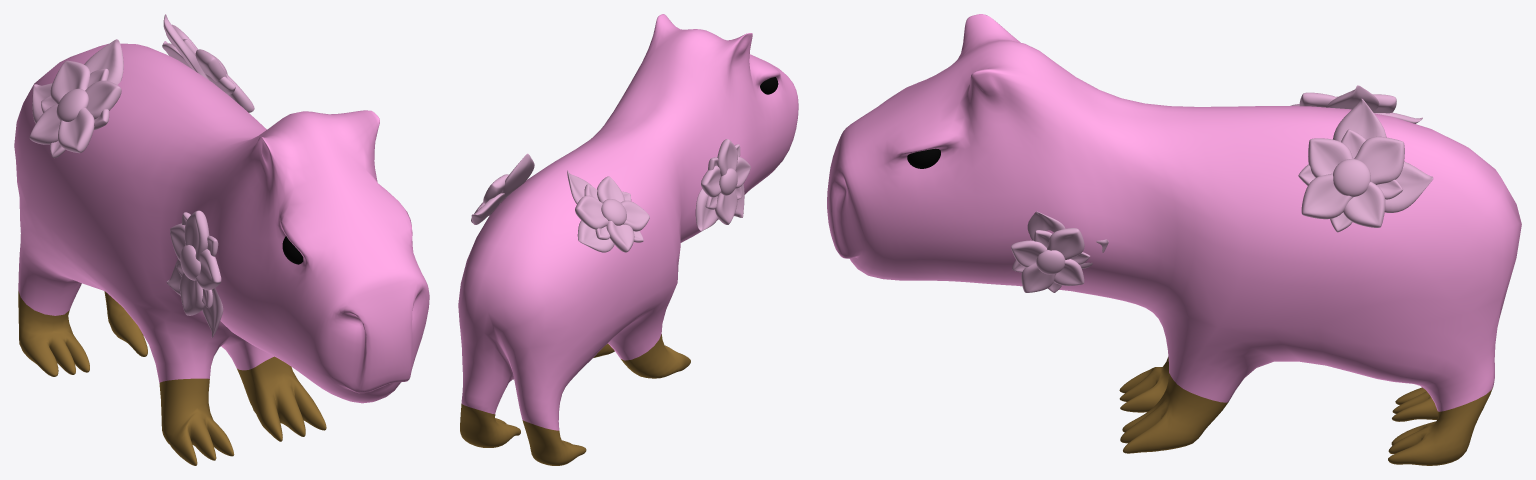
The model's file is HippotheFlower.fbx.
3 renders of one model, left to right at view 1: azimuth 30°, elevation 25°; view 2: azimuth 150°, elevation 25°; view 3: azimuth 270°, elevation 25°, orthographic. The views are drawn at different scales.
Visible parts, largest first — view 1: body, flower_geo, flower_geo3, flower_geo1; view 2: body, flower_geo, flower_geo3, flower_geo1; view 3: body, flower_geo1, flower_geo2, flower_geo.
Part boxes in pixels (x1,y1,x2,y2): body: (14,43,429,465); flower_geo: (29,39,123,157); flower_geo3: (166,210,223,337); flower_geo1: (162,14,254,112); body: (458,14,798,465); flower_geo: (567,170,649,252); flower_geo3: (695,139,750,231); flower_geo1: (471,153,534,224); body: (827,14,1521,465); flower_geo1: (1298,98,1433,232); flower_geo2: (1011,211,1108,292); flower_geo: (1290,85,1422,123).
Size of the model in its own units: 2.39 by 4.51 by 7.25.
